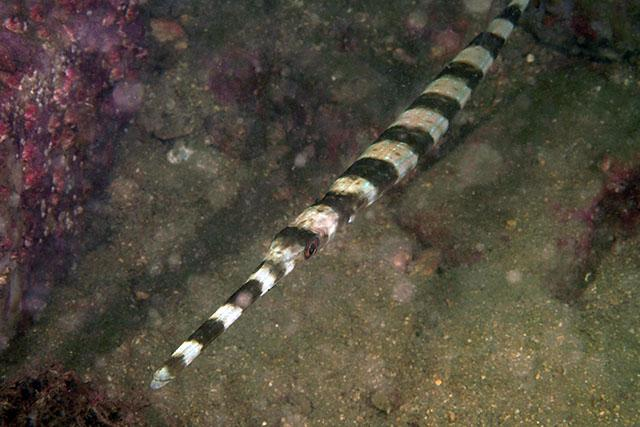Fistularia commersonii: (146, 1, 533, 391)
